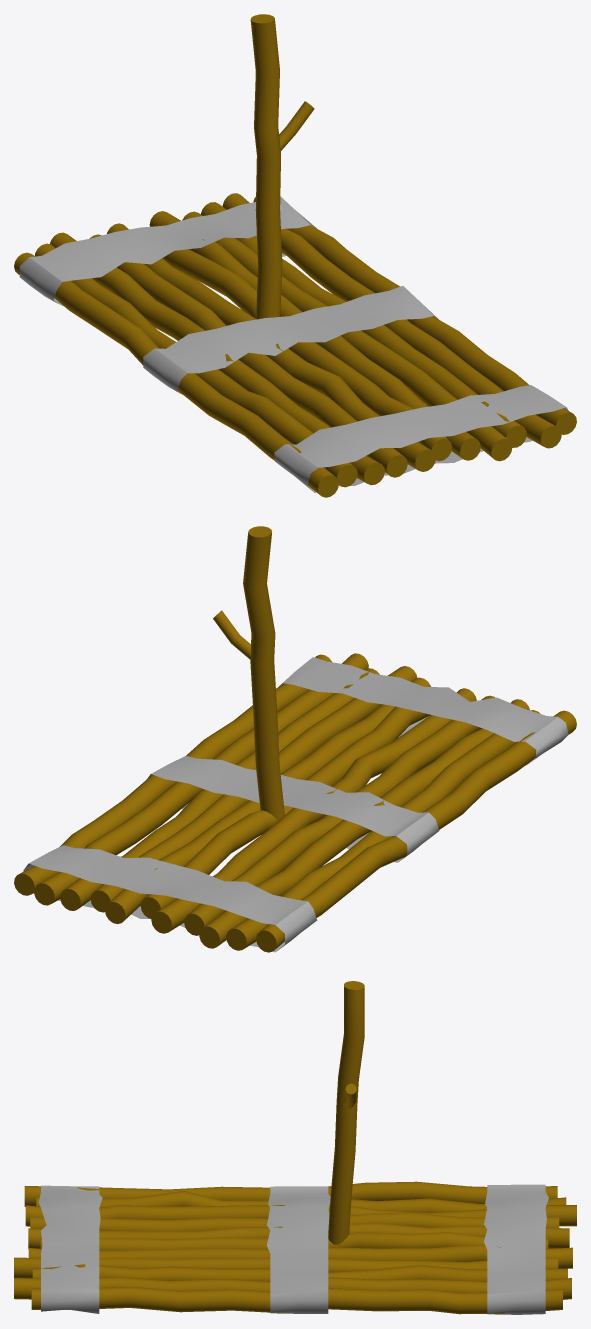
Rendered from raft.fbx.
The picture shows the model from 3 angles, top to bottom: view 1: azimuth 30°, elevation 25°; view 2: azimuth 150°, elevation 25°; view 3: azimuth 270°, elevation 25°; orthographic projection. The views are drawn at different scales.
Visible parts, largest first — view 1: rope, main, log, log9, log3, log5, log2, log4, log10, log7, log1, log6 (+1 smaller); view 2: rope, main, log, log4, log2, log9, log3, log5, log10, log7, log1, log6 (+1 smaller); view 3: rope, log10, main, log, log9, log6, log8, log5, log3, log2, log7, log4 (+1 smaller).
Part boxes in pixels (<box>): rope: <box>19,196,568,492</box>; main: <box>250,14,314,319</box>; log: <box>14,252,338,497</box>; log9: <box>222,193,561,448</box>; log3: <box>89,234,407,477</box>; log5: <box>162,249,452,461</box>; log2: <box>50,232,384,485</box>; log4: <box>107,223,435,471</box>; log10: <box>253,197,576,434</box>; log7: <box>182,211,512,461</box>; log1: <box>35,243,357,487</box>; log6: <box>149,211,480,460</box>; rope: <box>23,657,568,952</box>; main: <box>213,526,284,821</box>; log: <box>256,710,576,952</box>; log4: <box>151,688,476,933</box>; log2: <box>199,699,529,948</box>; log9: <box>34,653,368,905</box>; log3: <box>184,695,494,935</box>; log5: <box>140,706,430,918</box>; log10: <box>14,654,331,895</box>; log7: <box>90,666,417,912</box>; log1: <box>226,710,540,950</box>; log6: <box>105,677,431,923</box>; rope: <box>38,1184,548,1314</box>; log10: <box>31,1287,562,1314</box>; main: <box>328,981,364,1244</box>; log: <box>24,1181,557,1206</box>; log9: <box>14,1277,571,1299</box>; log6: <box>28,1244,572,1268</box>; log8: <box>32,1264,567,1281</box>; log5: <box>40,1232,548,1250</box>; log3: <box>30,1212,559,1231</box>; log2: <box>25,1203,576,1226</box>; log7: <box>14,1257,558,1278</box>; log4: <box>28,1223,569,1248</box>.
Size of the model in its own units: 5.18 by 5.92 by 10.75.
